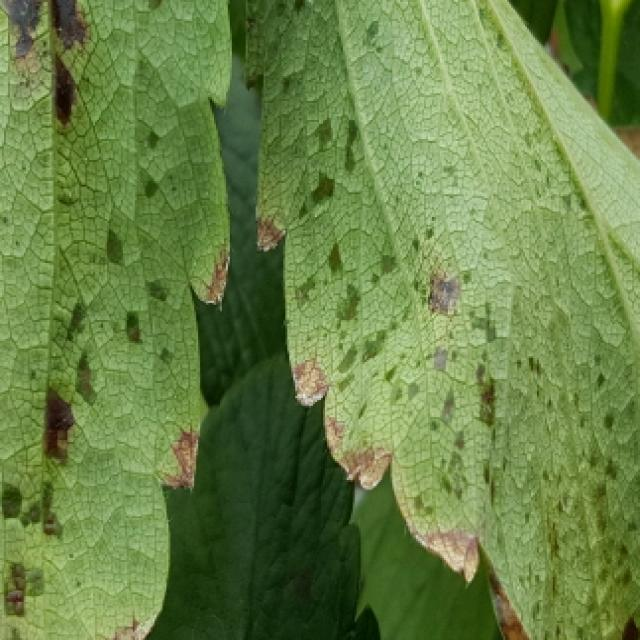Angular Leafspot: (241, 0, 640, 640)
